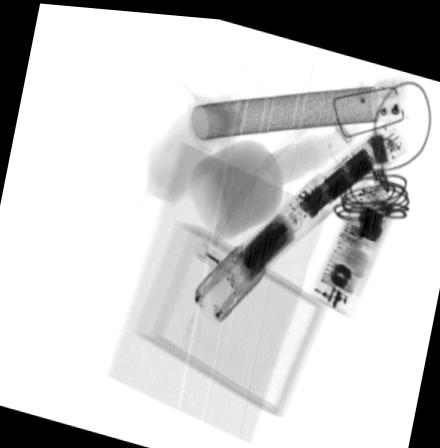Baton: (191, 109, 409, 321)
